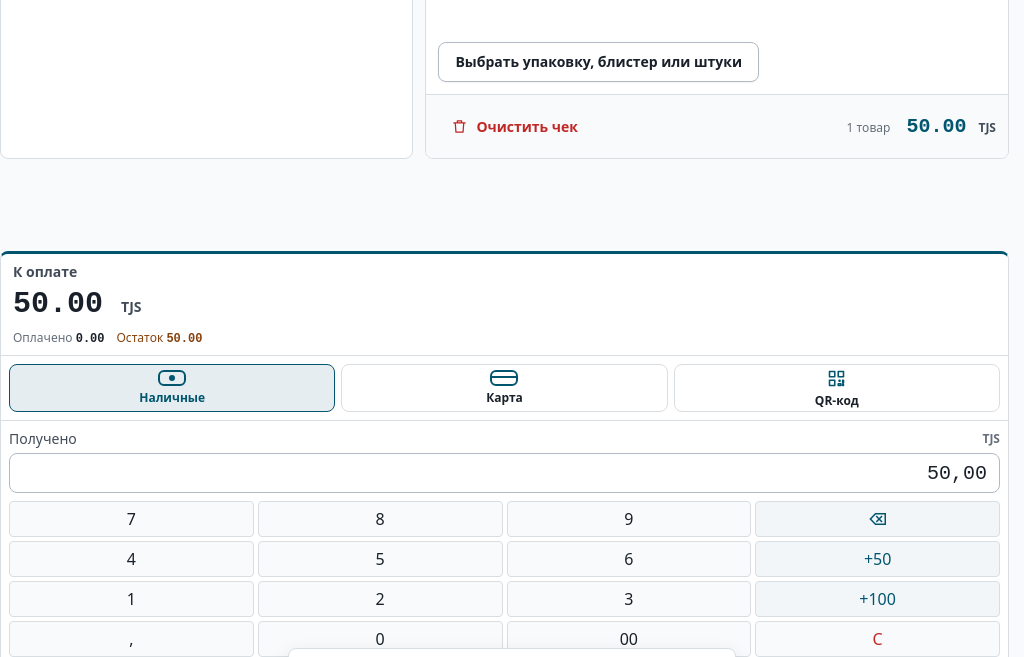
SaleArea atomic checkout › resets only the staged cash calculation and keeps the cart intact
(page scrolled)
Expected: the text "Остаток 50.00" is shown, [116,330,202,347]
Press Enter
(page scrolled)
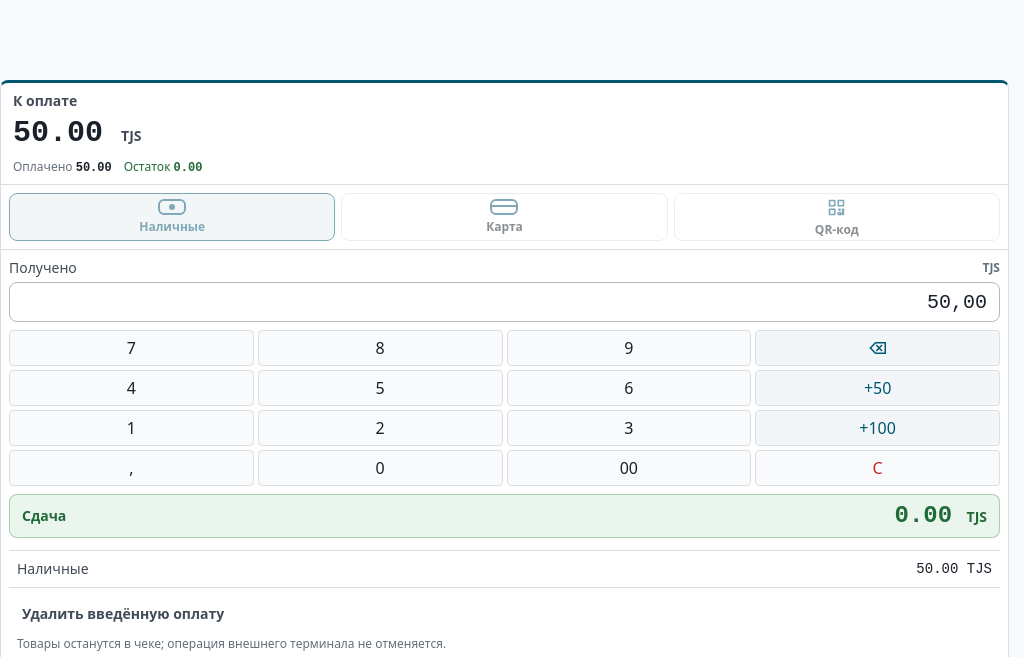
Expected: the button "Удалить введённую оплату" is shown
Click the button "Удалить введённую оплату": (123, 614) [9,596,237,632]
(page scrolled)
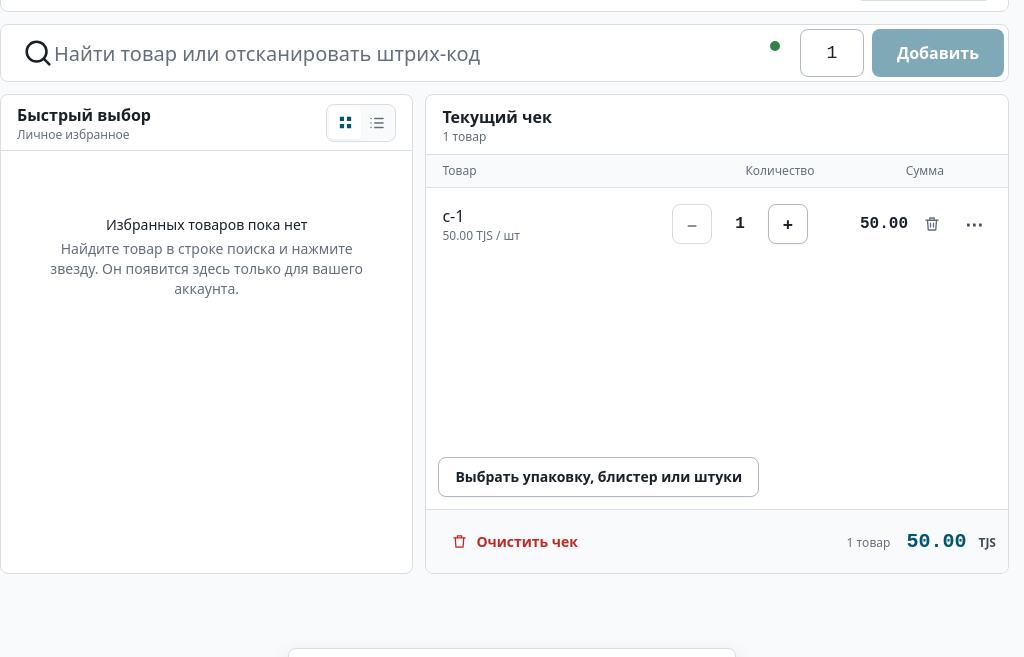
Expected: the list item with test id "cart-item" is shown, [442,204,992,244]
Expected: the button "Удалить введённую оплату" is gone
